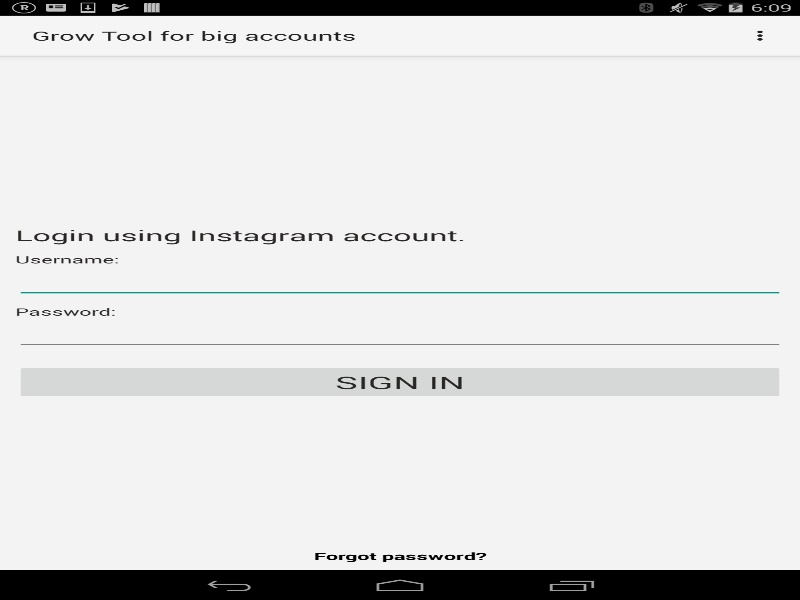Button: (15, 364, 784, 400)
Input: (15, 318, 784, 350), (15, 266, 784, 297)
